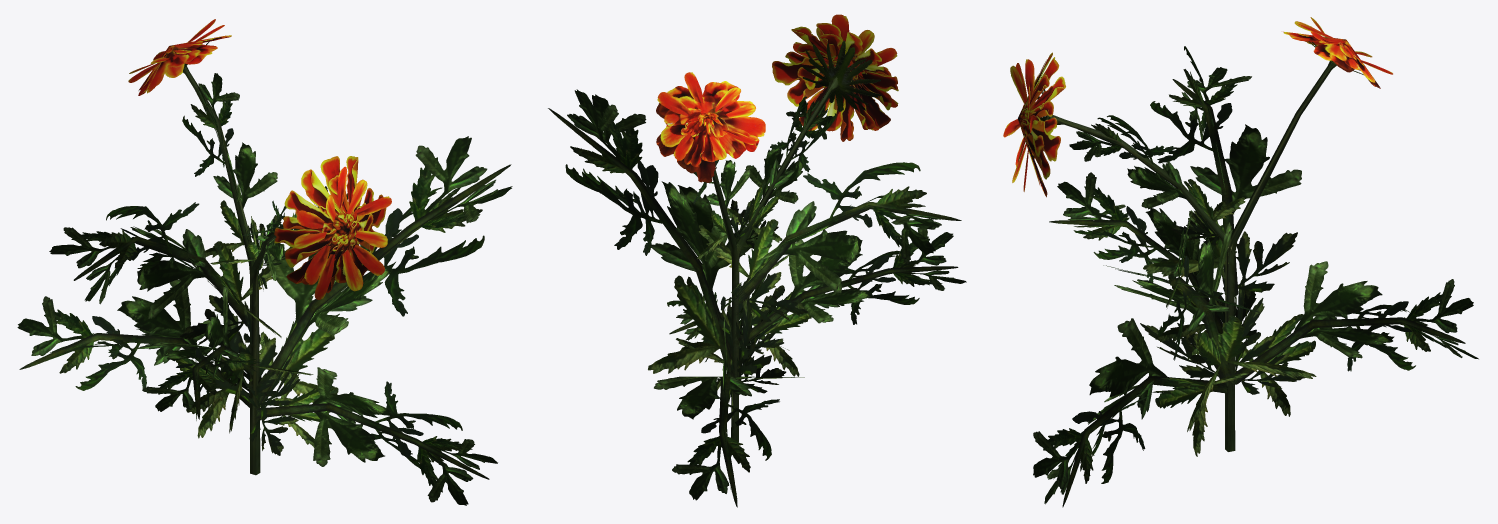
File: Marigold2.obj
3 views of the same model, side by side, from view 1: azimuth 30°, elevation 25°; view 2: azimuth 150°, elevation 25°; view 3: azimuth 270°, elevation 25° (orthographic). The views are drawn at different scales.
Parts seen in each view (by area): view 1: LOD0SG; view 2: LOD0SG; view 3: LOD0SG.
Part boxes in pixels (box(x1,y1,x2,y2)): LOD0SG: box(17, 19, 512, 505); LOD0SG: box(548, 14, 966, 507); LOD0SG: box(1003, 17, 1478, 507).
Bounding box in the file's own units: 1.24 × 1.13 × 1.16.
Materials: 1 (1 with a texture image).
